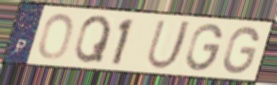1: (110, 16, 137, 66)
G: (184, 22, 225, 73), (220, 25, 261, 76)
O: (37, 12, 76, 62)
Q: (73, 14, 114, 65)
U: (143, 18, 194, 72)
